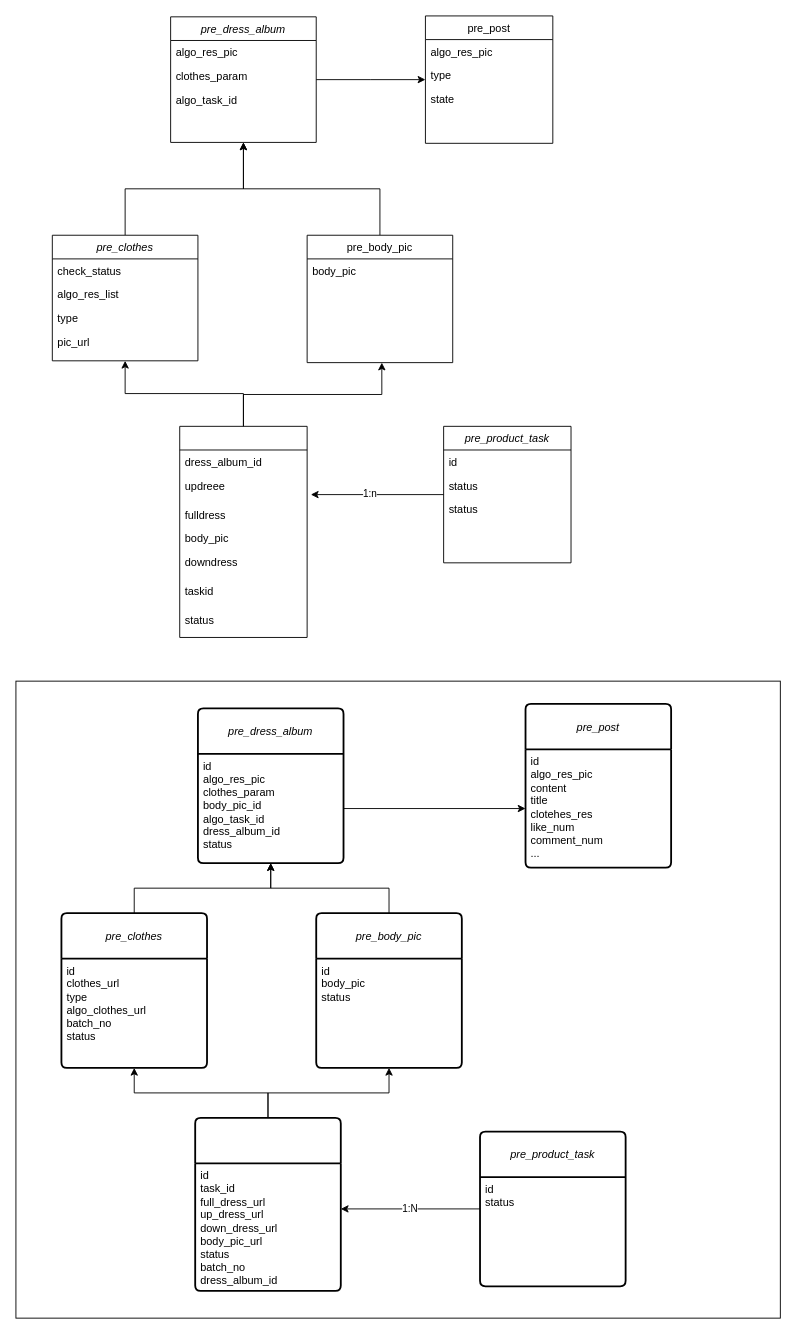
This 796x1334 diagram has some shape labels left out. Each missing label, with the box of its shape:
pre_sub_task: (194, 1117, 341, 1291)
pre_subTask: (179, 425, 307, 637)
